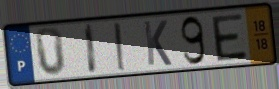0: (34, 26, 67, 79)
9: (178, 14, 207, 67)
E: (209, 12, 249, 63)
I: (83, 22, 99, 76), (112, 21, 128, 73)
K: (141, 19, 174, 68)
